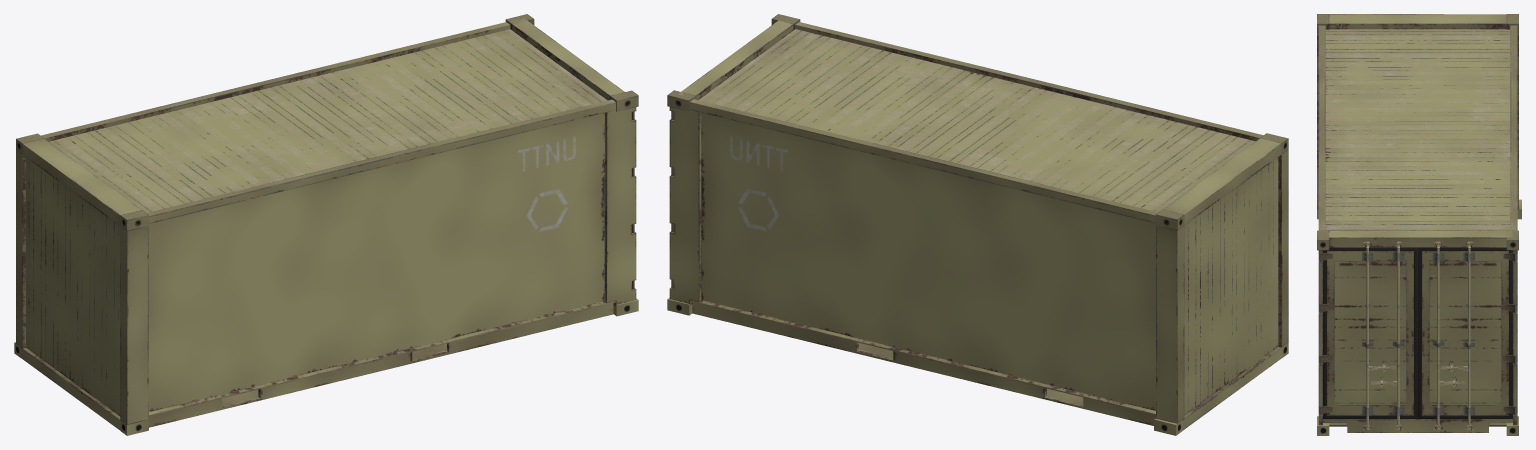
File: argo_container.glb
3 renders of one model, left to right at view 1: azimuth 30°, elevation 25°; view 2: azimuth 150°, elevation 25°; view 3: azimuth 270°, elevation 25°, orthographic. The views are drawn at different scales.
Parts seen in each view (by area): view 1: bok_LP, roof_LP, zad_LP, niz_LP, rama_2_pered_LP, rama_1_bok_LP, rama_2_zad_LP, rama_1_bok_LP1, rama_1_zad_LP, rama_1_pered_LP, rama_2_zad_LP1, rama_3_zad_LP (+1 smaller); view 2: bok_LP1, roof_LP, zad_LP, niz_LP1, rama_2_pered_LP1, rama_1_bok_LP1, rama_2_zad_LP1, rama_1_bok_LP, rama_1_zad_LP, rama_1_pered_LP, rama_2_zad_LP, rama_3_zad_LP (+1 smaller); view 3: roof_LP, door_plast_LP1, door_plast_LP, door_rama_LP1, door_rama_LP, rama_1_pered_LP, rama_1_zad_LP, rama_3_pered_LP, door__resina_LP1, door__resina_LP, rama_1_bok_LP1, rama_1_bok_LP (+14 smaller).
Boxes of the visible parts, bbox=[...] form: bok_LP: bbox=[148, 113, 604, 411]; roof_LP: bbox=[49, 29, 607, 212]; zad_LP: bbox=[26, 157, 120, 416]; niz_LP: bbox=[148, 301, 615, 427]; rama_2_pered_LP: bbox=[605, 107, 636, 305]; rama_1_bok_LP: bbox=[147, 99, 615, 223]; rama_2_zad_LP: bbox=[120, 226, 148, 424]; rama_1_bok_LP1: bbox=[41, 22, 510, 141]; rama_1_zad_LP: bbox=[22, 138, 141, 225]; rama_1_pered_LP: bbox=[509, 18, 624, 100]; rama_2_zad_LP1: bbox=[16, 150, 25, 348]; rama_3_zad_LP: bbox=[21, 348, 120, 430]; bok_LP1: bbox=[701, 112, 1155, 410]; roof_LP: bbox=[698, 29, 1255, 212]; zad_LP: bbox=[1184, 157, 1278, 415]; niz_LP1: bbox=[690, 300, 1155, 425]; rama_2_pered_LP1: bbox=[669, 107, 701, 305]; rama_1_bok_LP1: bbox=[690, 99, 1157, 223]; rama_2_zad_LP1: bbox=[1156, 225, 1184, 423]; rama_1_bok_LP: bbox=[795, 22, 1263, 141]; rama_1_zad_LP: bbox=[1163, 138, 1281, 225]; rama_1_pered_LP: bbox=[678, 20, 793, 99]; rama_2_zad_LP: bbox=[1278, 149, 1288, 347]; rama_3_zad_LP: bbox=[1182, 347, 1281, 430]; roof_LP: bbox=[1325, 29, 1510, 230]; door_plast_LP1: bbox=[1429, 261, 1501, 404]; door_plast_LP: bbox=[1334, 261, 1406, 404]; door_rama_LP1: bbox=[1422, 251, 1508, 415]; door_rama_LP: bbox=[1327, 251, 1413, 415]; rama_1_pered_LP: bbox=[1328, 230, 1512, 247]; rama_1_zad_LP: bbox=[1329, 14, 1506, 29]; rama_3_pered_LP: bbox=[1323, 419, 1512, 432]; door__resina_LP1: bbox=[1418, 247, 1512, 418]; door__resina_LP: bbox=[1323, 247, 1417, 418]; rama_1_bok_LP1: bbox=[1510, 25, 1517, 230]; rama_1_bok_LP: bbox=[1318, 25, 1325, 230].
Size of the model in its own units: 606 by 244 by 232.
1 material, 1 textured.
